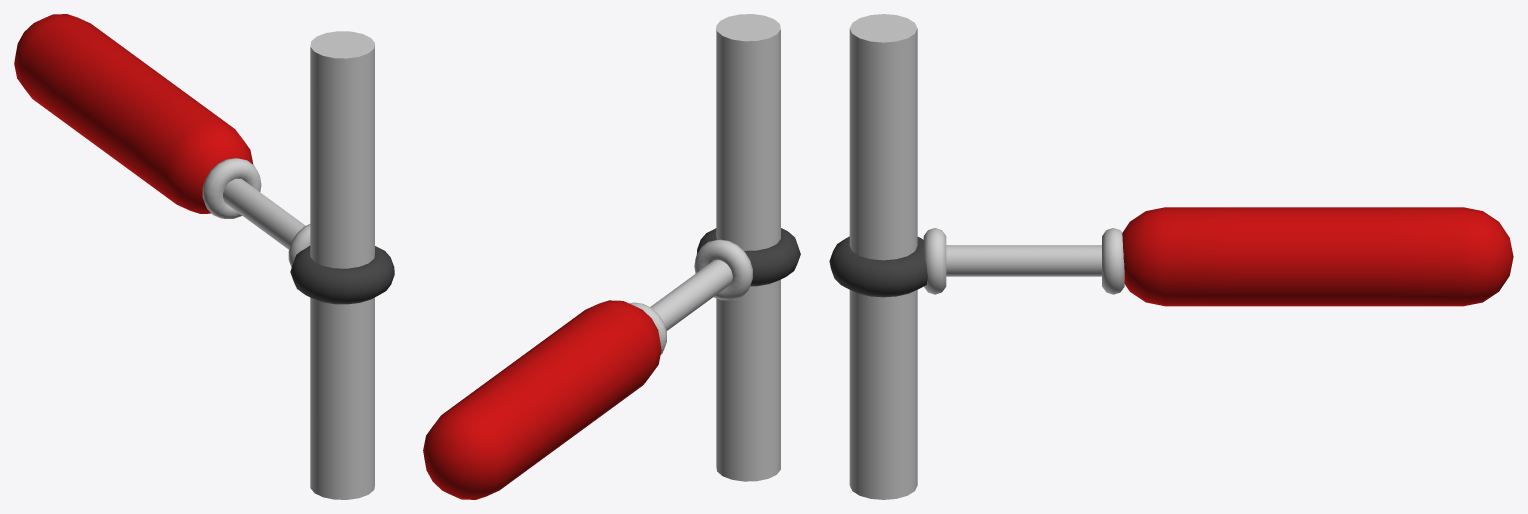
File: trap_rotator_01.fbx
3 renders of one model, left to right at view 1: azimuth 30°, elevation 25°; view 2: azimuth 150°, elevation 25°; view 3: azimuth 270°, elevation 25°, orthographic. The views are drawn at different scales.
Parts seen in each view (by area): view 1: Base, hit_box, main_rotator, Cylinder, connector_02, connector_01; view 2: Base, hit_box, Cylinder, main_rotator, connector_01, connector_02; view 3: hit_box, Base, Cylinder, main_rotator, connector_02, connector_01.
Boxes of the visible parts, x1,y1,x2,y2 form: Base: (310, 31, 374, 499); hit_box: (14, 14, 253, 213); main_rotator: (290, 246, 394, 304); Cylinder: (223, 178, 305, 249); connector_02: (202, 158, 261, 218); connector_01: (288, 224, 310, 267); Base: (716, 14, 780, 481); hit_box: (423, 300, 661, 499); Cylinder: (650, 260, 732, 330); main_rotator: (696, 228, 800, 286); connector_01: (694, 239, 752, 300); connector_02: (629, 302, 666, 354); hit_box: (1122, 207, 1513, 306); Base: (849, 14, 917, 499); Cylinder: (946, 245, 1101, 276); main_rotator: (829, 236, 927, 297); connector_02: (1102, 228, 1124, 294); connector_01: (923, 228, 946, 294).
Size of the model in its own units: 109 by 510 by 691.
